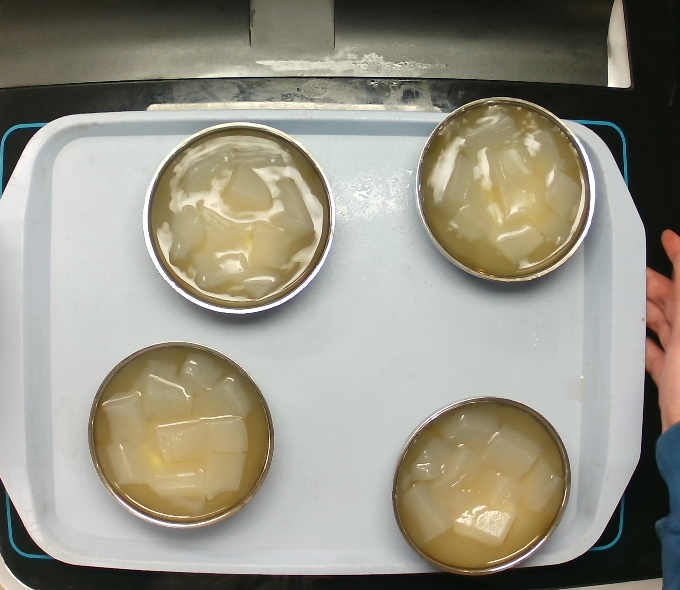wcq-YeGuoLi: (86, 340, 282, 531), (380, 391, 584, 574), (137, 131, 334, 315), (416, 99, 598, 284)
